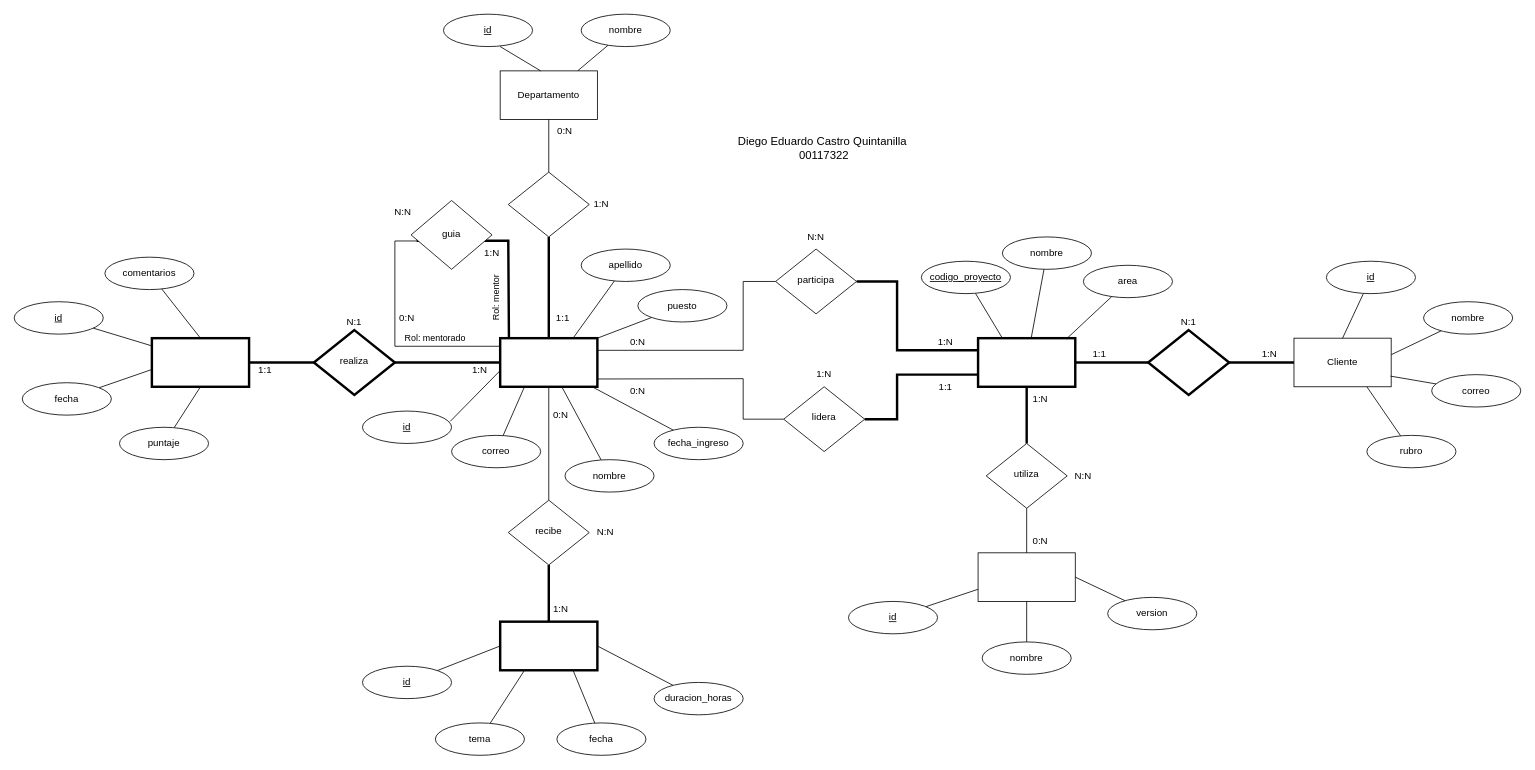
Image size: 1535x770. Some labels were removed from this diagram. Each missing label, with the box of its shape:
Capacitacion: (499, 620, 598, 671)
Empleado: (499, 337, 598, 388)
Evaluacion: (150, 337, 250, 388)
pertenece: (507, 171, 589, 237)
Proyecto: (976, 337, 1076, 388)
solicita: (1147, 328, 1230, 396)
Tecnologia: (977, 552, 1075, 601)
